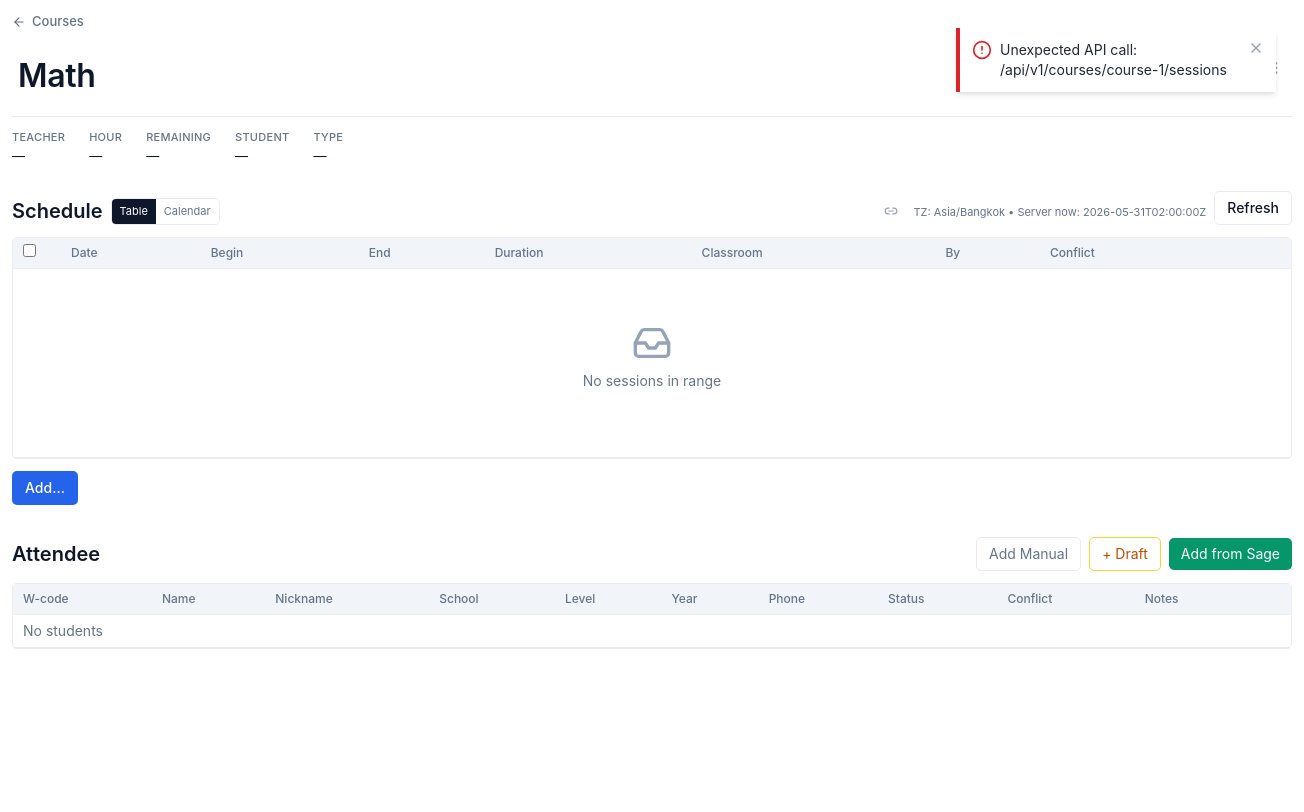
Scenario: CourseDetail calendar grid › renders Day/Week/Month controls and a Mon–Sun week grid
Check: the button "Add…" is shown, box [12,470,78,504]
Step 1. Click the button "Calendar" → (187, 211), box [156,199,219,224]
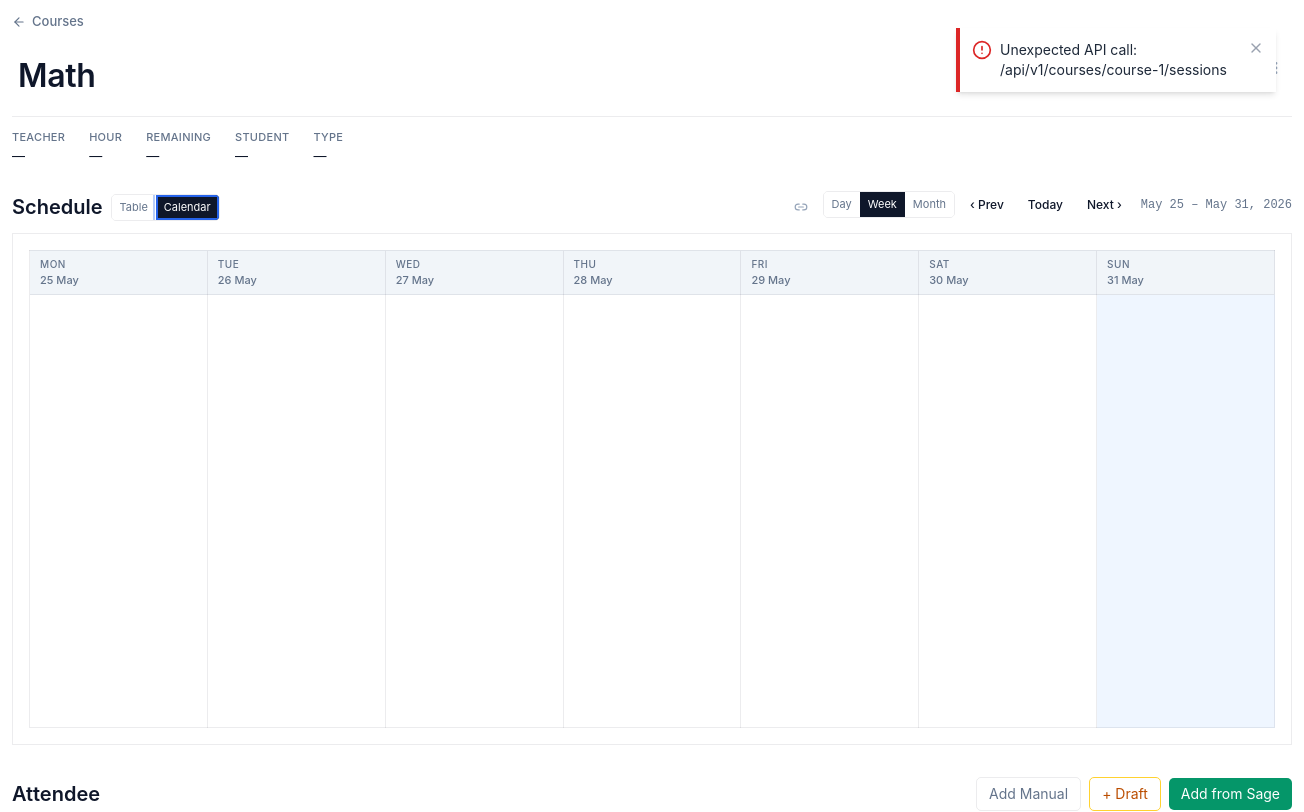
Check: the button "Day" is shown, box [824,192,860,217]
Check: the button "Month" is shown, box [905,192,954,217]
Check: the button with aria-label "Previous week" is shown, box [961,190,1013,218]
